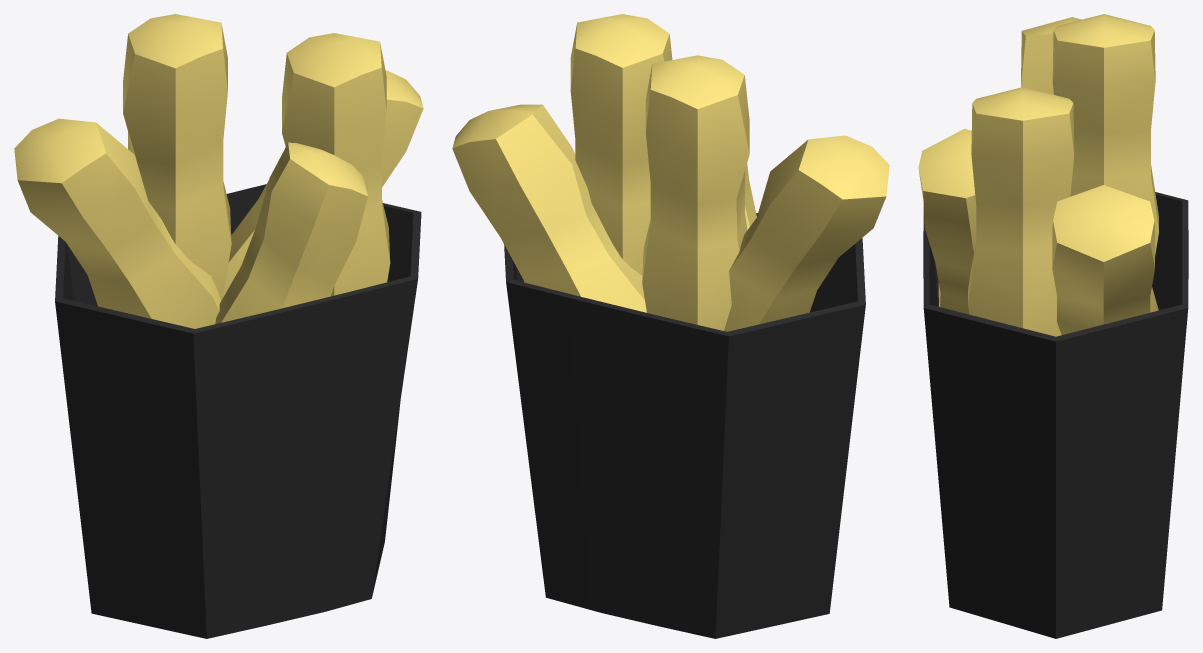
Rendered from patataa.fbx.
The picture shows the model from 3 angles, left to right: view 1: azimuth 30°, elevation 25°; view 2: azimuth 150°, elevation 25°; view 3: azimuth 270°, elevation 25°; orthographic projection. The views are drawn at different scales.
Parts seen in each view (by area): view 1: patata2_35; view 2: patata2_35; view 3: patata2_35.
Part boxes in pixels (box(x1,y1,x2,y2)): patata2_35: box(14, 14, 423, 638); patata2_35: box(452, 14, 889, 638); patata2_35: box(918, 14, 1188, 638).
Size of what is drawn, in the model's own units: 171 by 97.62 by 214.
